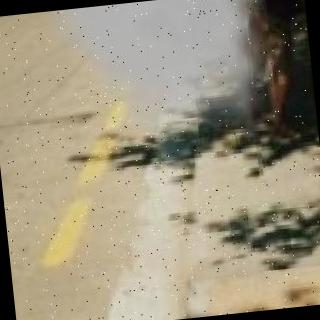smoke: (3, 0, 282, 152)
